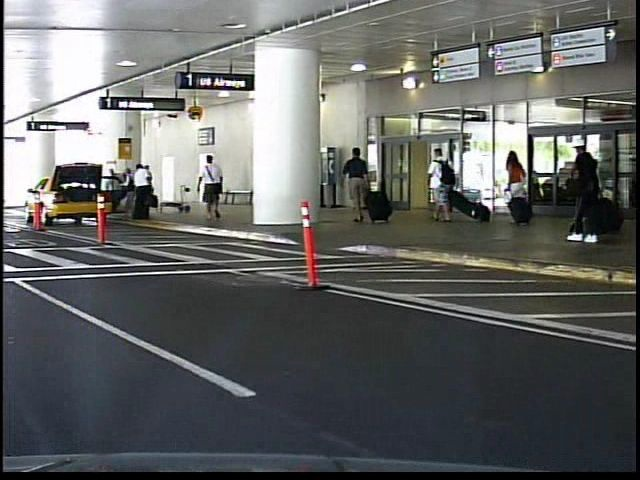person: (559, 135, 607, 247), (423, 142, 460, 224), (500, 145, 534, 231), (338, 143, 370, 226), (199, 151, 230, 225), (186, 164, 208, 211)
